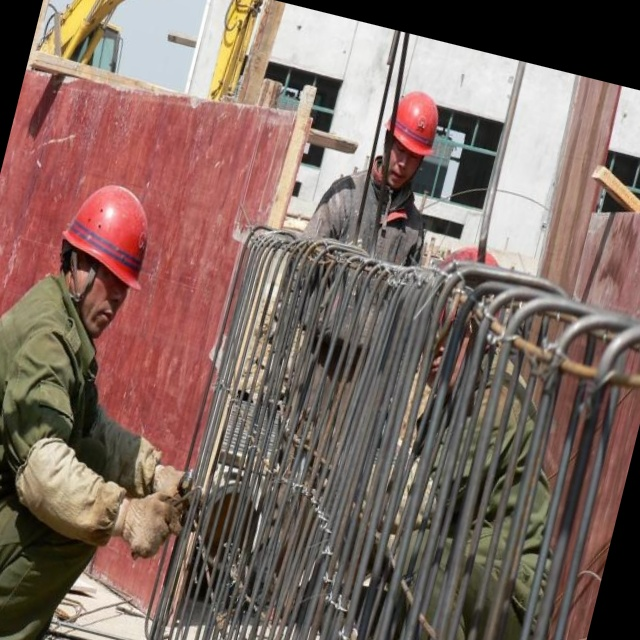Con_Casco: (50, 177, 164, 340), (374, 87, 446, 194)
